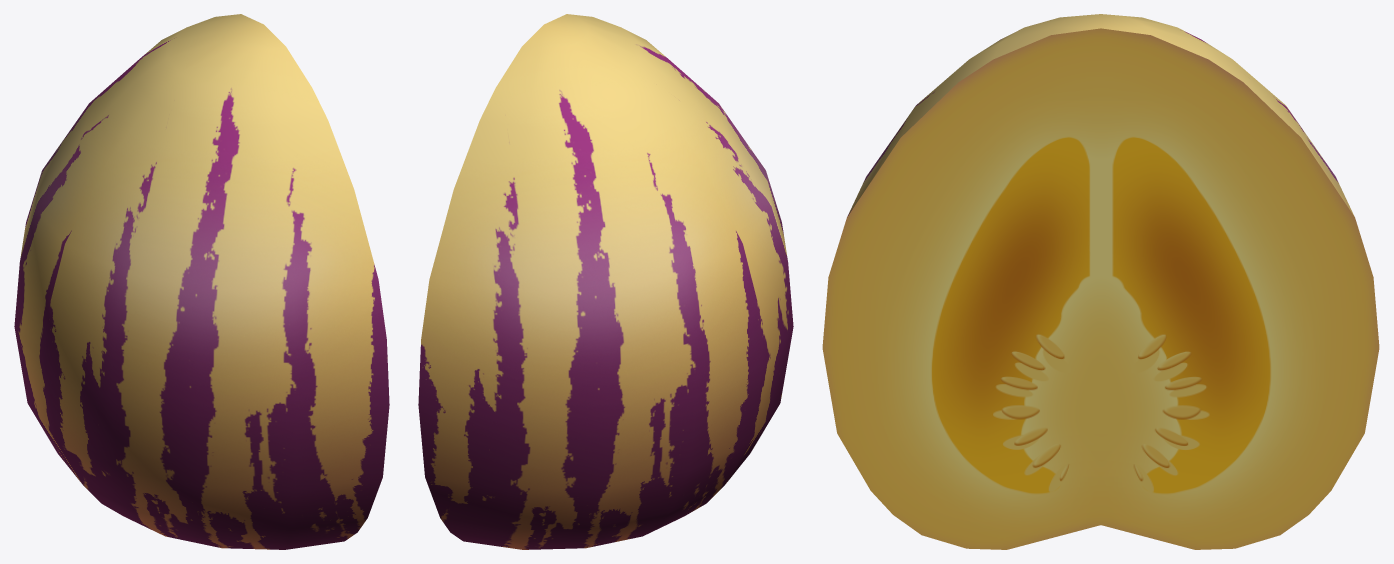
File: Pepino_Half_01.fbx
3 renders of one model, left to right at view 1: azimuth 30°, elevation 25°; view 2: azimuth 150°, elevation 25°; view 3: azimuth 270°, elevation 25°, orthographic. The views are drawn at different scales.
Parts seen in each view (by area): view 1: Pepino_Half_01; view 2: Pepino_Half_01; view 3: Pepino_Half_01.
Boxes of the visible parts, x1,y1,x2,y2 form: Pepino_Half_01: (14, 14, 389, 549); Pepino_Half_01: (418, 14, 793, 549); Pepino_Half_01: (822, 14, 1379, 549).
Bounding box in the file's own units: 17.59 × 36.34 × 35.17.
